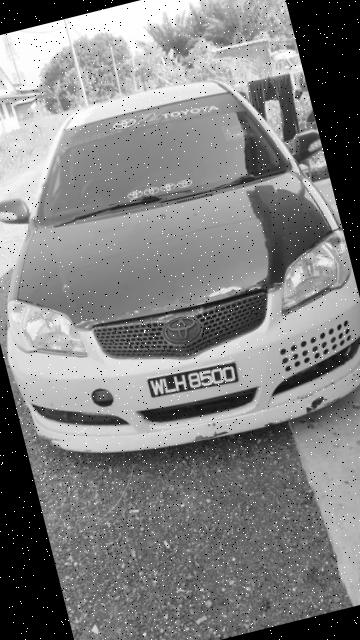License_Plate: (145, 355, 246, 408)
car: (1, 40, 360, 483)
